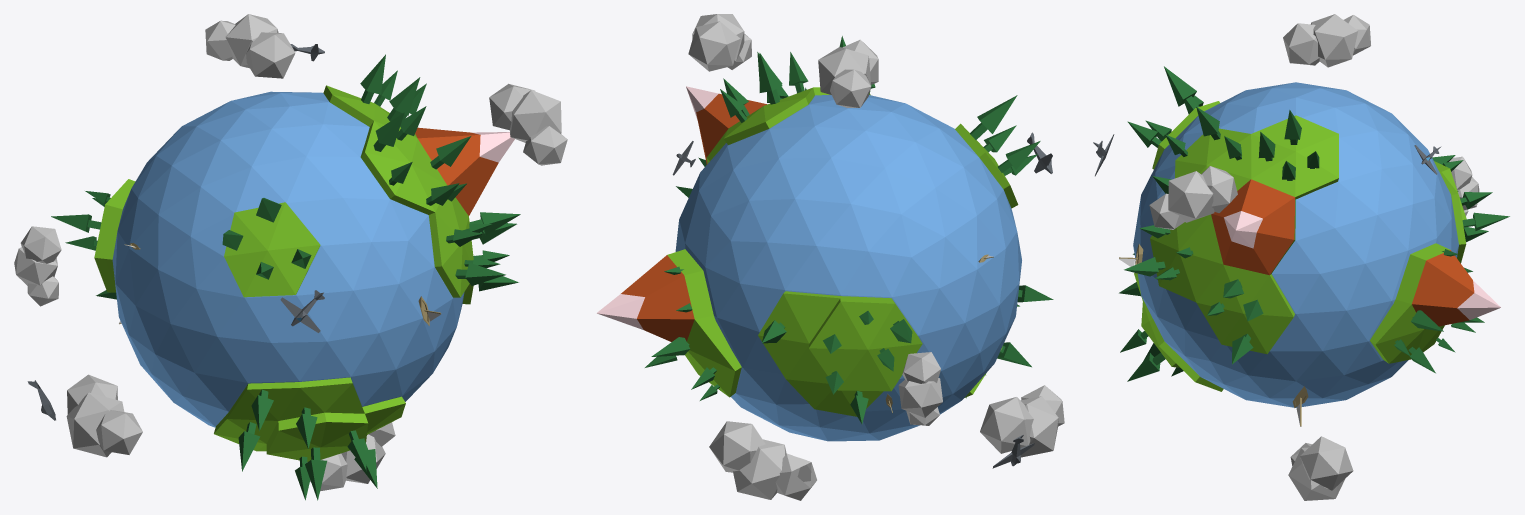
Rendered from planete.fbx.
The picture shows the model from 3 angles, left to right: view 1: azimuth 30°, elevation 25°; view 2: azimuth 150°, elevation 25°; view 3: azimuth 270°, elevation 25°; orthographic projection. The views are drawn at different scales.
Parts seen in each view (by area): view 1: planete eau, planete terre, nuages, nuages.006, nuages.005, nuages.009, nuages.012, arbres.006, arbres.005, arbres.042, avion, arbres.016 (+2 smaller); view 2: planete eau, planete terre, nuages.012, nuages, nuages.005, nuages.006, nuages.009, arbres.021, arbres.006; view 3: planete eau, planete terre, nuages.006, nuages.005, nuages.012, nuages.009, arbres.021, arbres.043, arbres.030, arbres.012.
Part boxes in pixels (x1,y1,x2,y2): planete eau: (112, 91, 464, 427); planete terre: (94, 85, 514, 461); nuages: (66, 374, 142, 457); nuages.006: (489, 83, 567, 165); nuages.005: (205, 14, 295, 78); nuages.009: (14, 226, 61, 306); nuages.012: (307, 422, 395, 491); arbres.006: (360, 54, 385, 103); arbres.005: (387, 77, 420, 121); arbres.042: (305, 447, 326, 500); avion: (280, 290, 324, 332); arbres.016: (455, 262, 505, 285); planete eau: (675, 95, 1021, 441); planete terre: (596, 86, 1018, 416); nuages.012: (709, 421, 816, 500); nuages: (980, 385, 1064, 457); nuages.005: (818, 39, 878, 107); nuages.006: (688, 14, 751, 71); nuages.009: (898, 352, 942, 425); arbres.021: (970, 95, 1017, 139); arbres.006: (759, 53, 782, 104); planete eau: (1133, 82, 1458, 407); planete terre: (1134, 101, 1500, 391); nuages.006: (1149, 166, 1237, 229); nuages.005: (1283, 14, 1370, 67); nuages.012: (1288, 436, 1353, 500); nuages.009: (1449, 156, 1479, 215); arbres.021: (1164, 66, 1199, 111); arbres.043: (1127, 352, 1165, 381); arbres.030: (1462, 212, 1509, 230); arbres.012: (1196, 106, 1220, 140).
Bounding box in the file's own units: 293 × 312 × 267.
